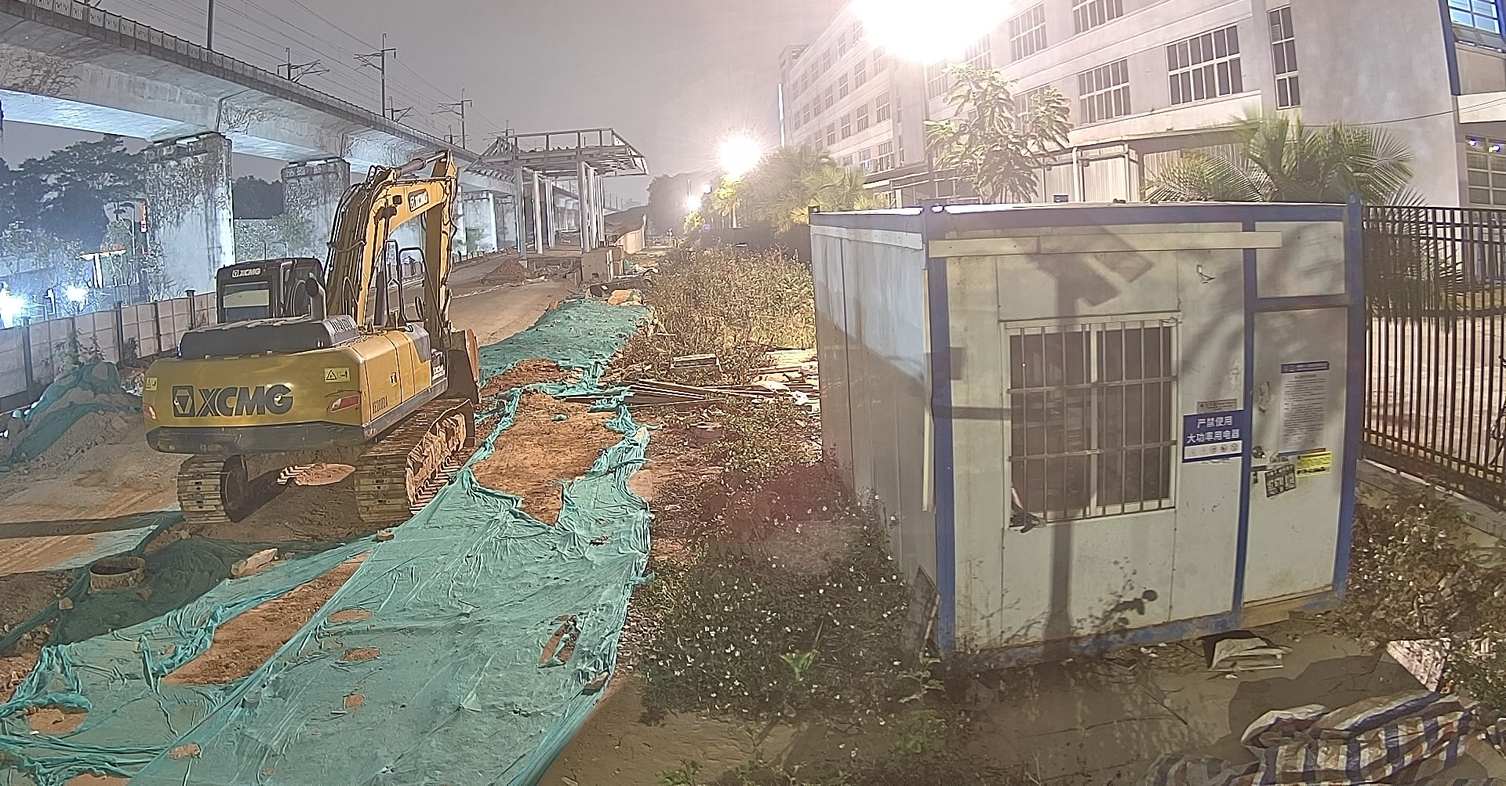过爆灯光: (849, 0, 1020, 64), (716, 133, 762, 176), (0, 294, 23, 326), (685, 194, 701, 210), (66, 286, 85, 299), (702, 184, 711, 193)
